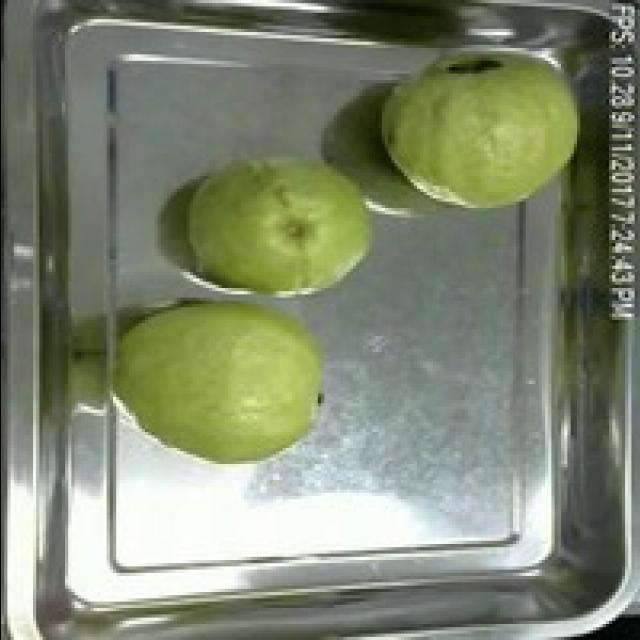Fruit: (109, 278, 336, 476), (368, 42, 592, 220), (176, 138, 384, 314)
